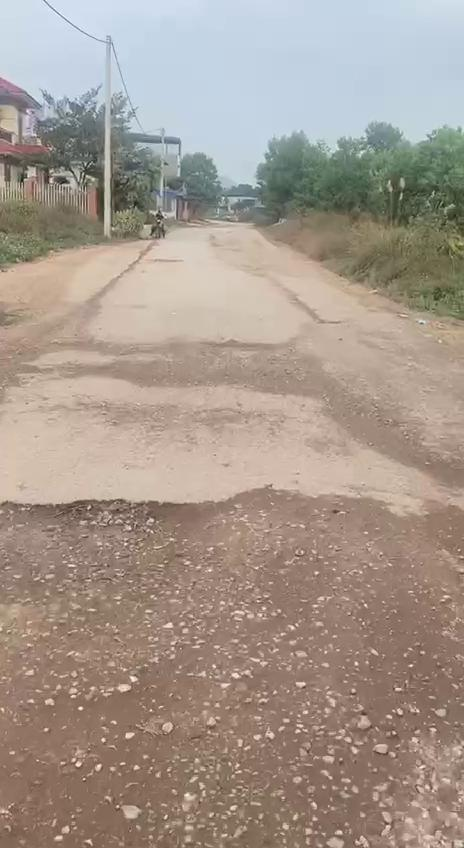pothole: (0, 490, 264, 661)
